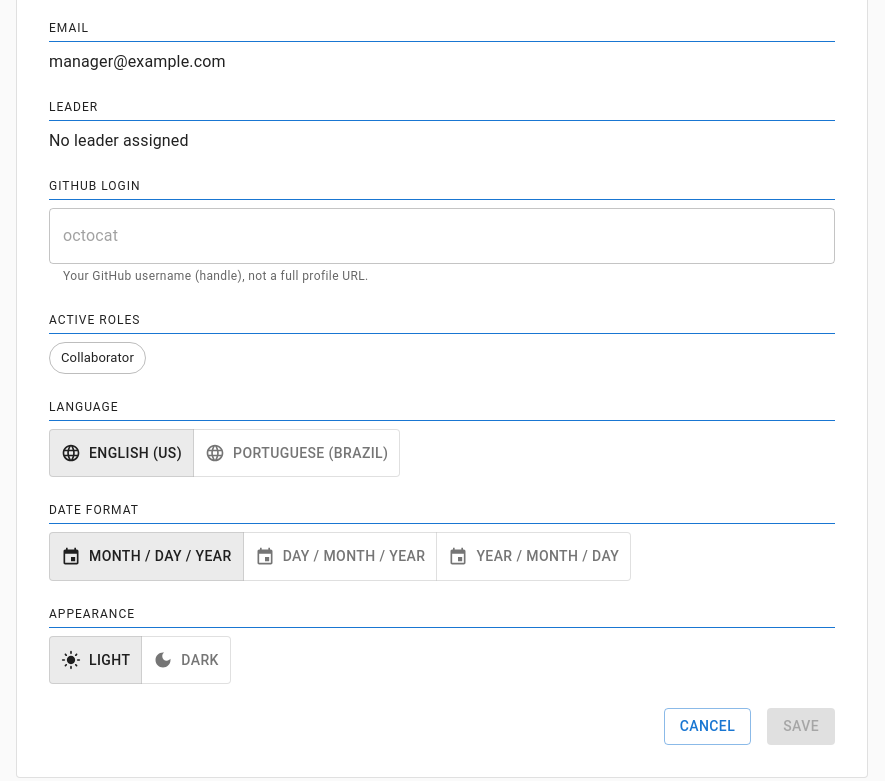
it: US1 profile page theme › shows error when profile save fails
(page scrolled)
What coordinates should you click on to do the following:
click the button with aria-label "Dark theme"
I would click on:
 (186, 660)
Its box is x1=141 y1=636 x2=231 y2=684.
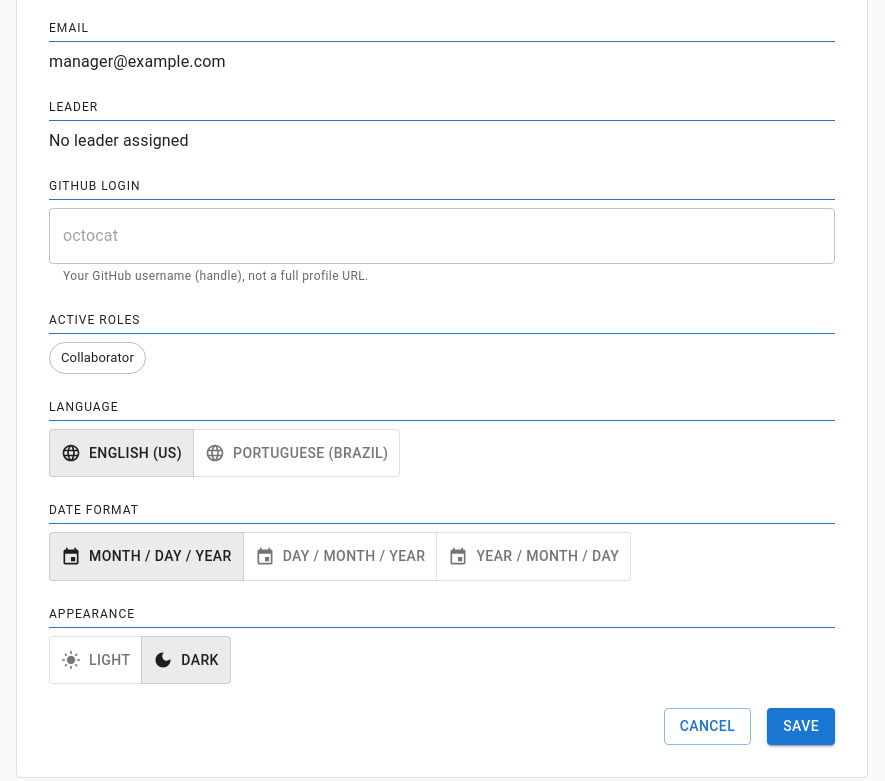
What coordinates should you click on to do the following:
click the button "Save"
I would click on:
 (801, 727)
Its box is x1=767 y1=708 x2=835 y2=745.
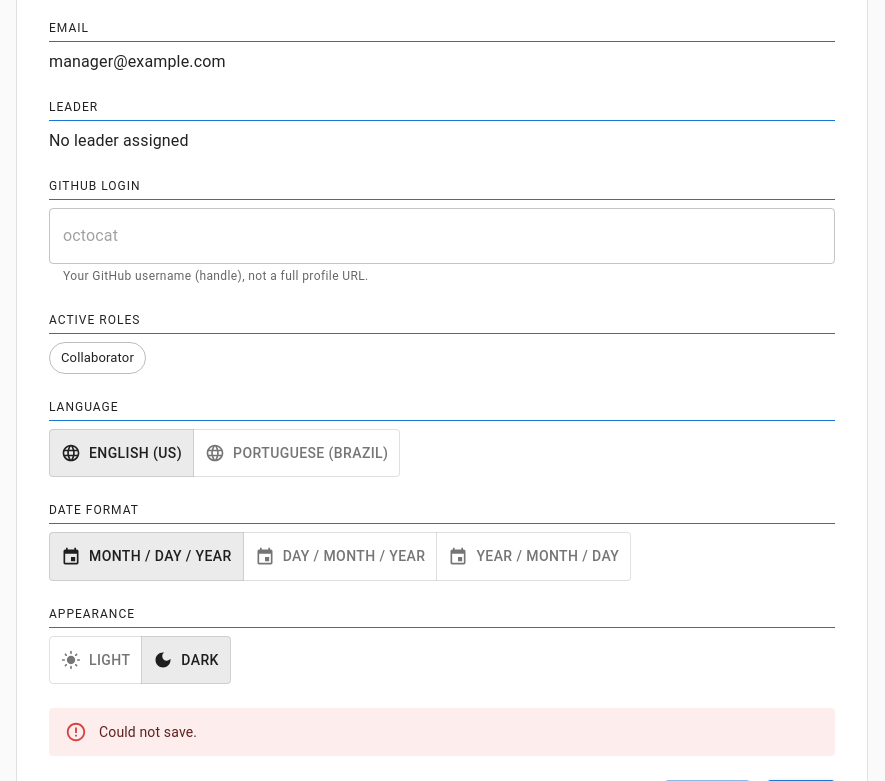
Expected: the message reads "Could not save.", x1=99 y1=724 x2=197 y2=740
